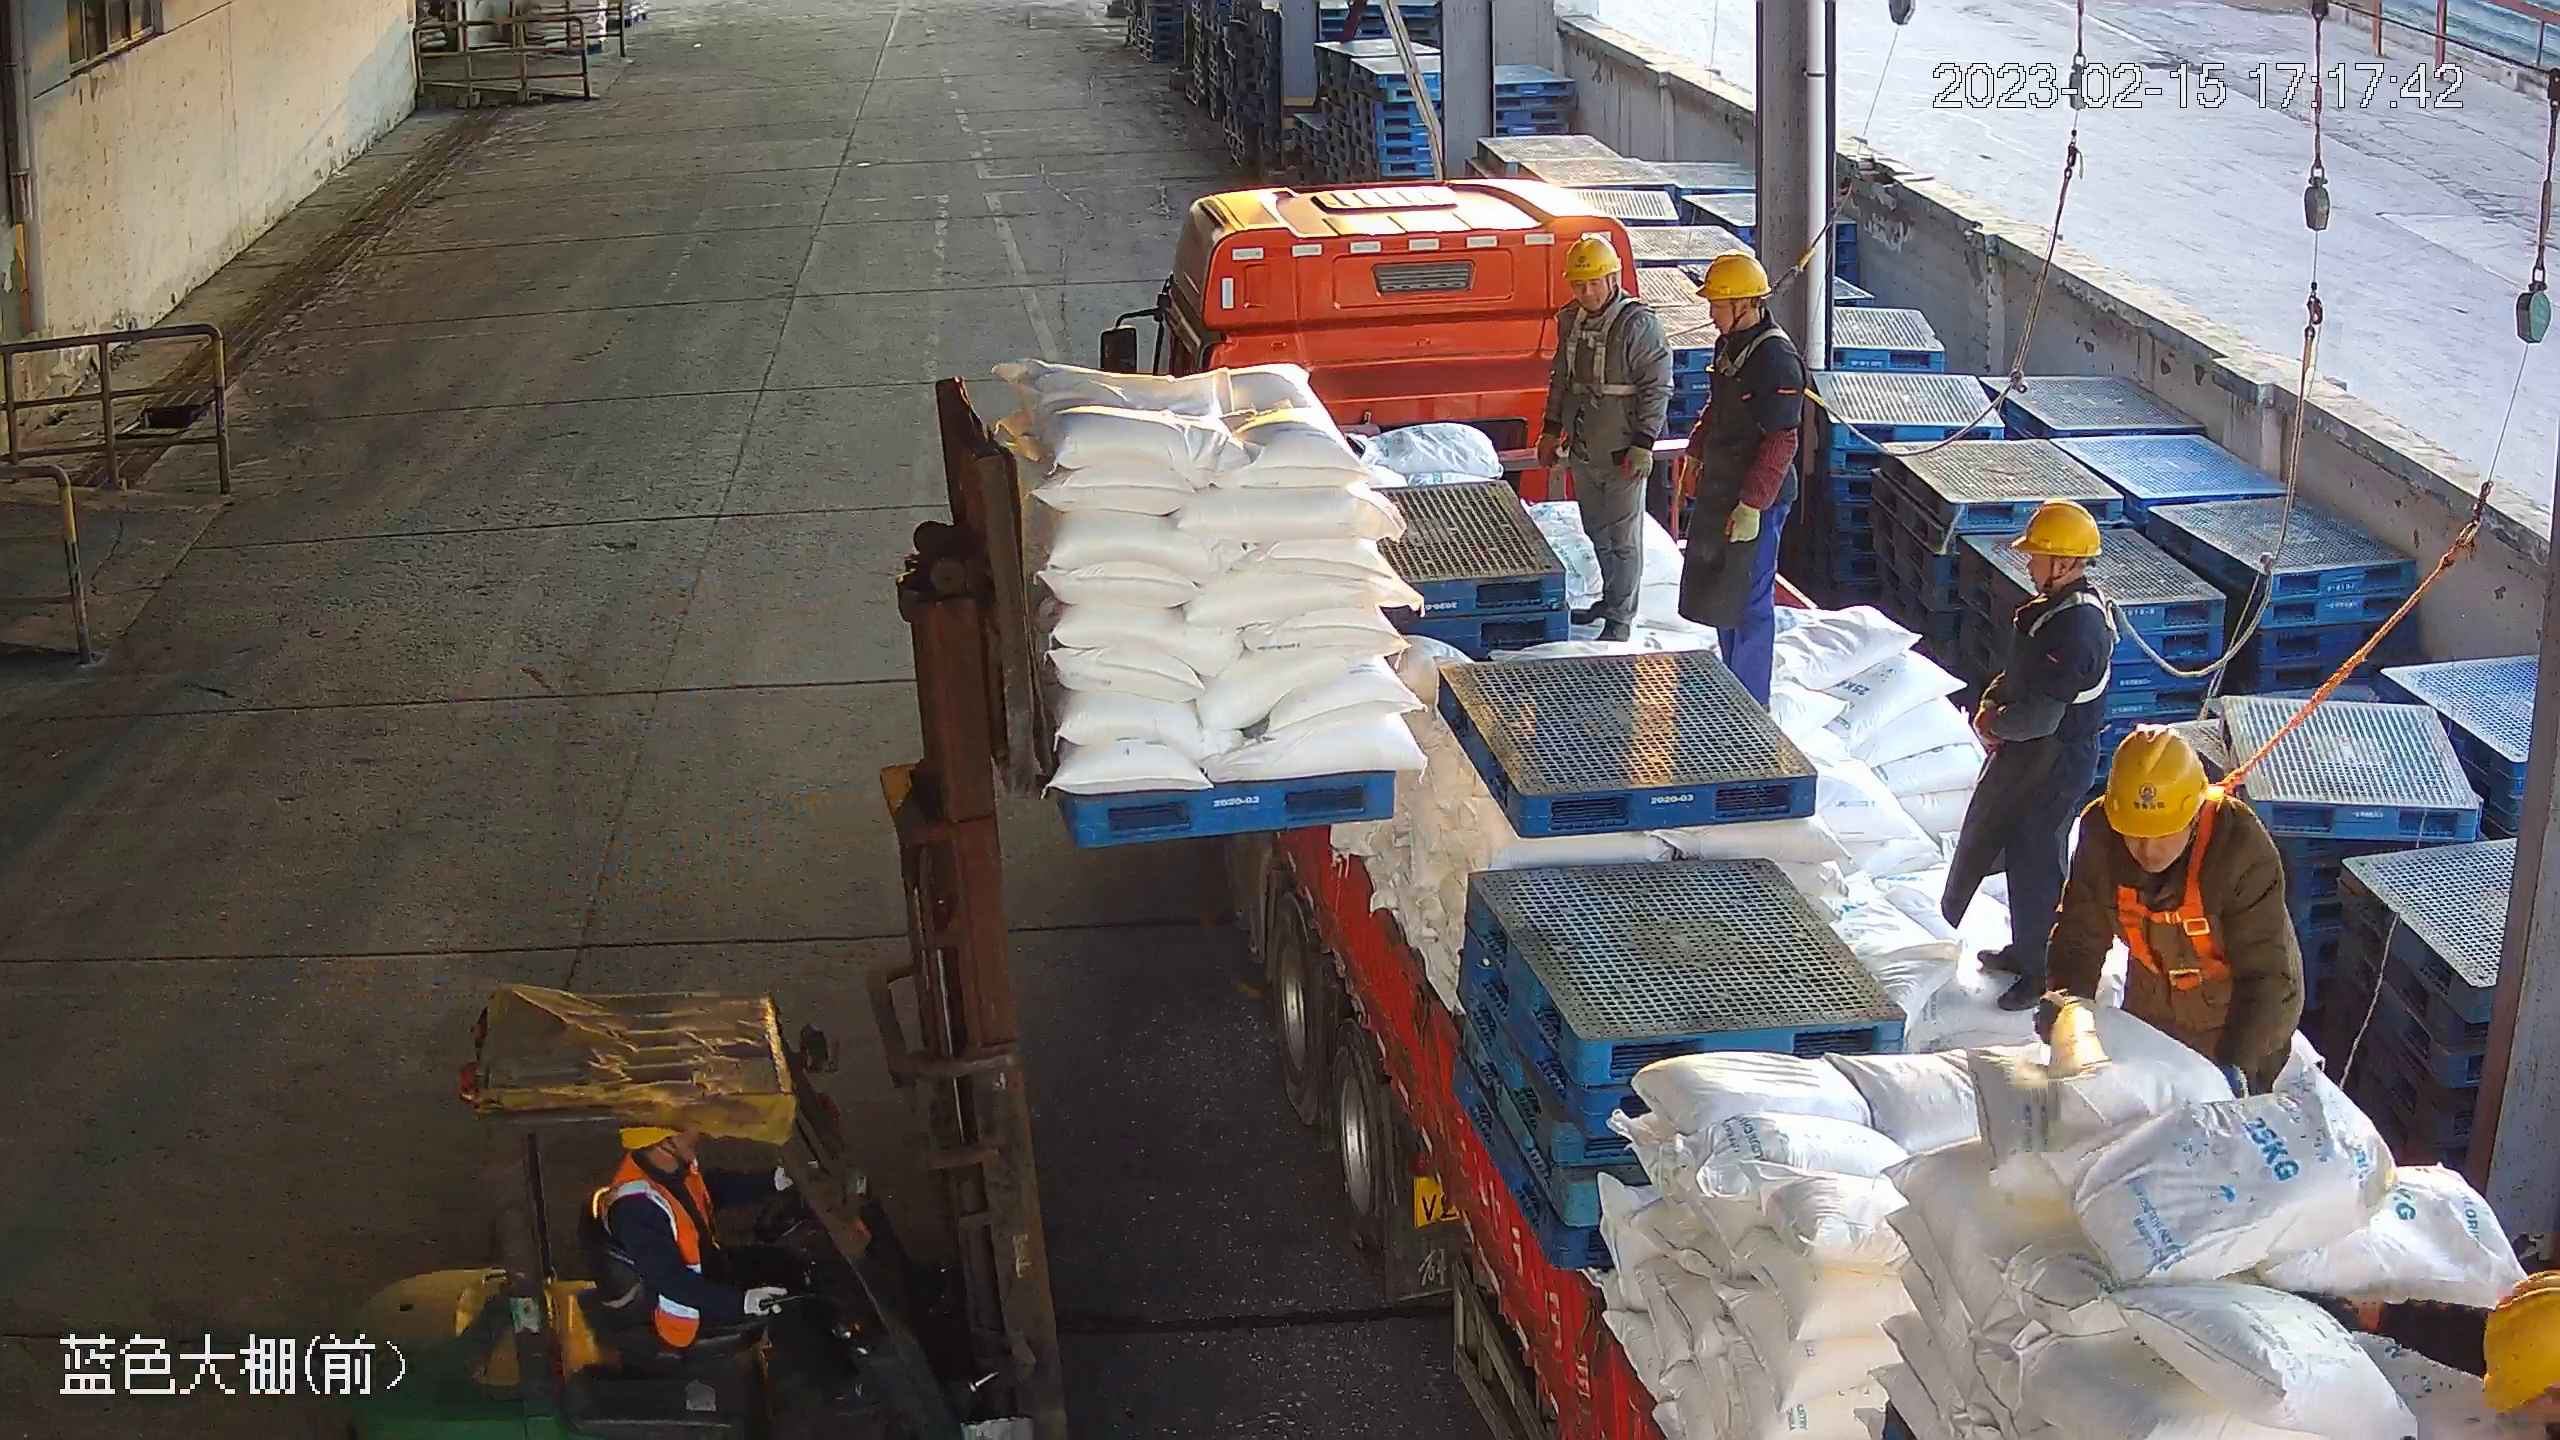belt: (2103, 844, 2246, 986), (2029, 592, 2122, 699), (1551, 303, 1638, 397), (1712, 327, 1811, 375)
head: (2073, 732, 2292, 907), (1975, 492, 2120, 660), (1666, 255, 1803, 394), (586, 1114, 718, 1244), (1553, 236, 1675, 364)
helmet: (2109, 725, 2211, 845), (2020, 488, 2107, 568), (1699, 244, 1775, 303), (1555, 232, 1620, 294)
people: (1964, 494, 2114, 1001), (1675, 247, 1818, 710), (581, 1110, 807, 1371), (1538, 225, 1675, 649)
truck: (1129, 160, 2560, 1440)
